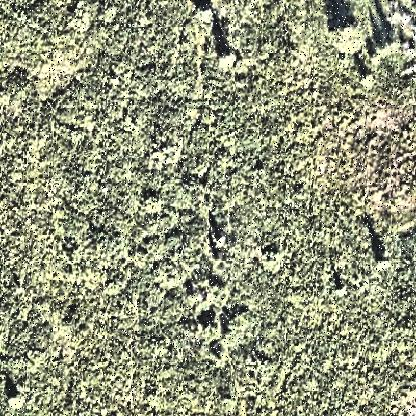tree-top: (225, 312, 257, 342), (329, 13, 358, 41), (210, 230, 240, 254), (375, 32, 404, 55), (196, 314, 222, 339), (194, 3, 219, 27), (218, 42, 242, 66), (370, 248, 393, 272), (5, 389, 27, 410)
